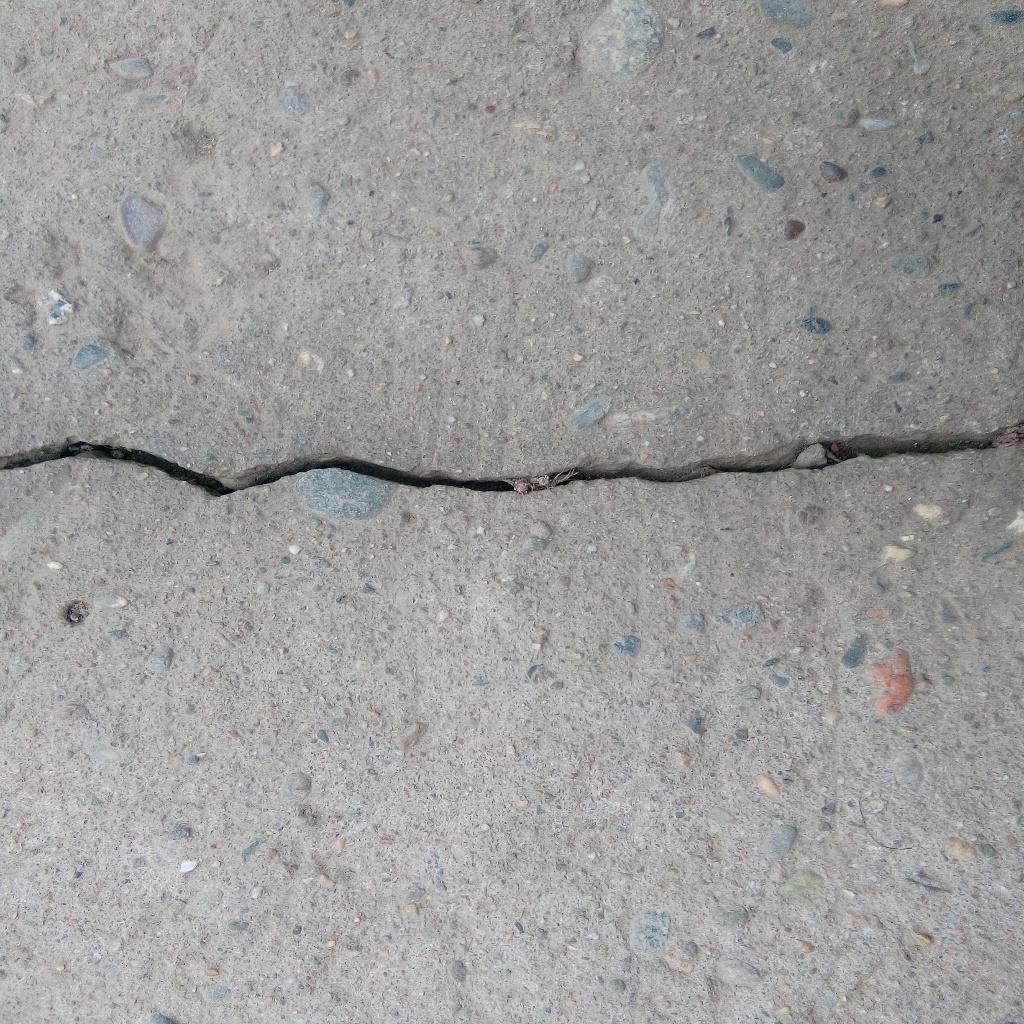Crack: (1, 428, 1024, 498)
